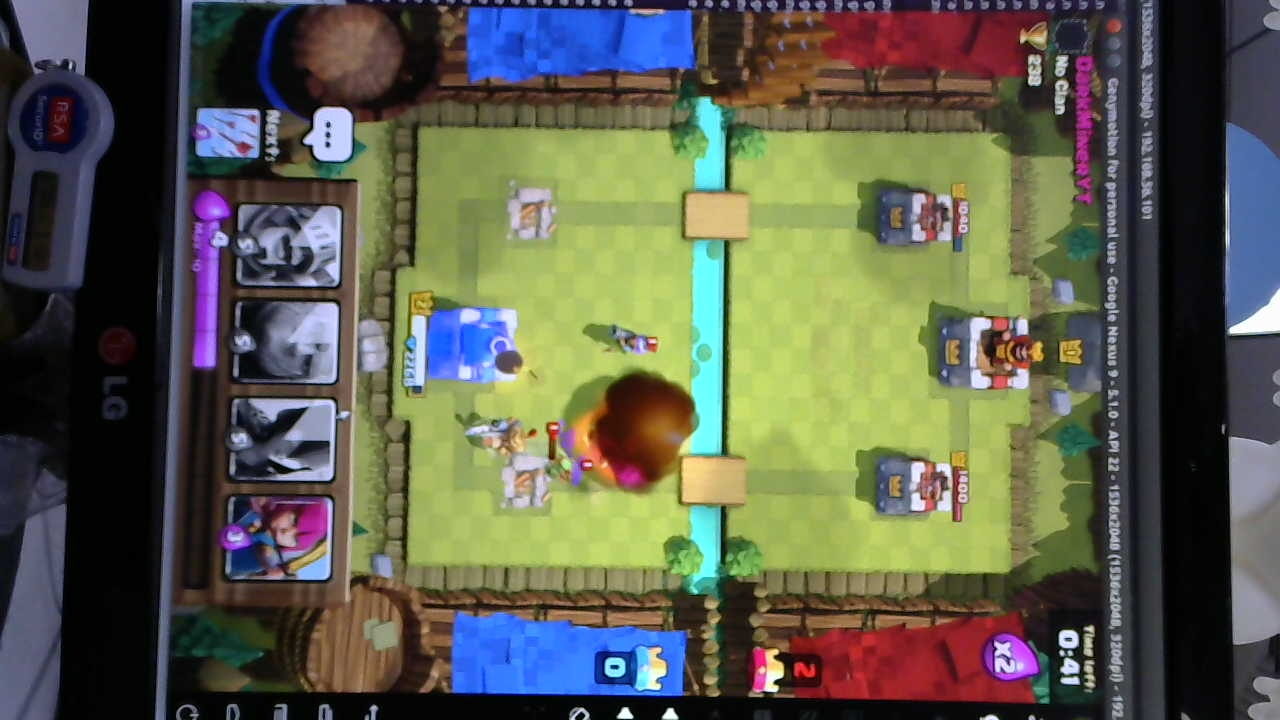darena: (500, 181, 557, 250), (499, 441, 551, 514)
earena: (874, 451, 954, 520), (871, 188, 954, 246)
eking: (940, 314, 1039, 390)
king: (425, 305, 518, 386)
musketeer: (606, 320, 657, 360)
prince: (468, 411, 540, 460)
